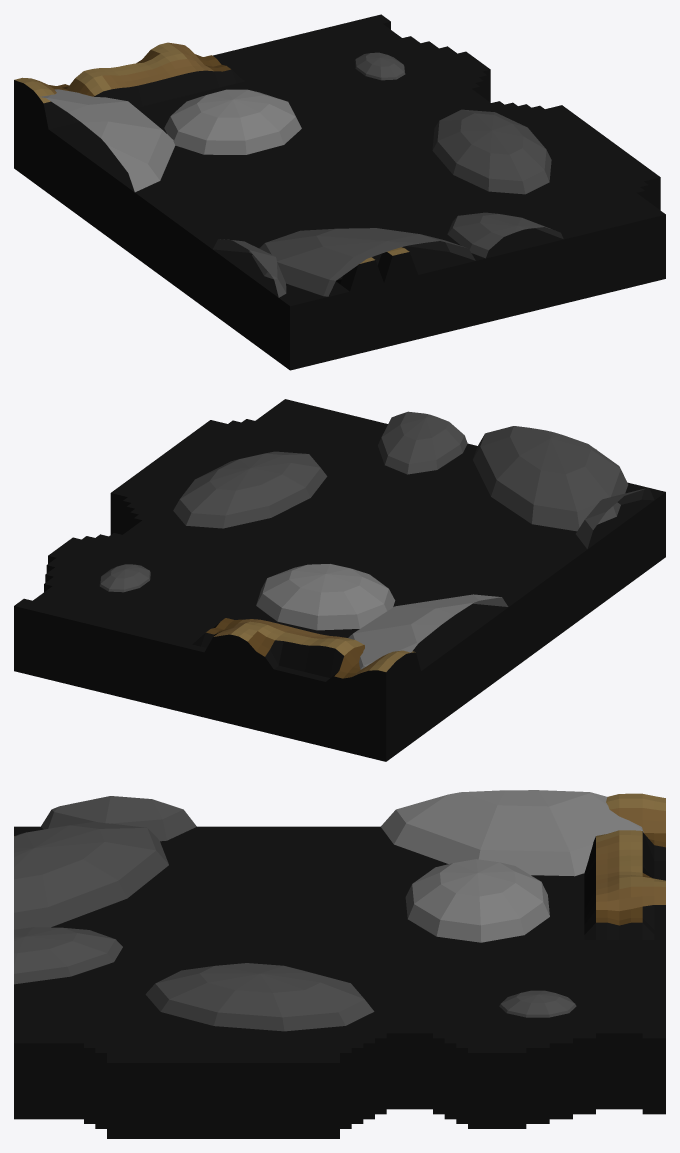
3 renders of one model, top to bottom at view 1: azimuth 30°, elevation 25°; view 2: azimuth 150°, elevation 25°; view 3: azimuth 270°, elevation 25°, orthographic. The views are drawn at different scales.
Visible parts, largest first — view 1: shapesz-t198; view 2: shapesz-t198; view 3: shapesz-t198.
Part boxes in pixels (bbox=[...]): shapesz-t198: bbox=[14, 14, 665, 370]; shapesz-t198: bbox=[14, 399, 665, 761]; shapesz-t198: bbox=[14, 790, 665, 1138].
Size of the model in its own units: 2 by 0.4548 by 2.33.
